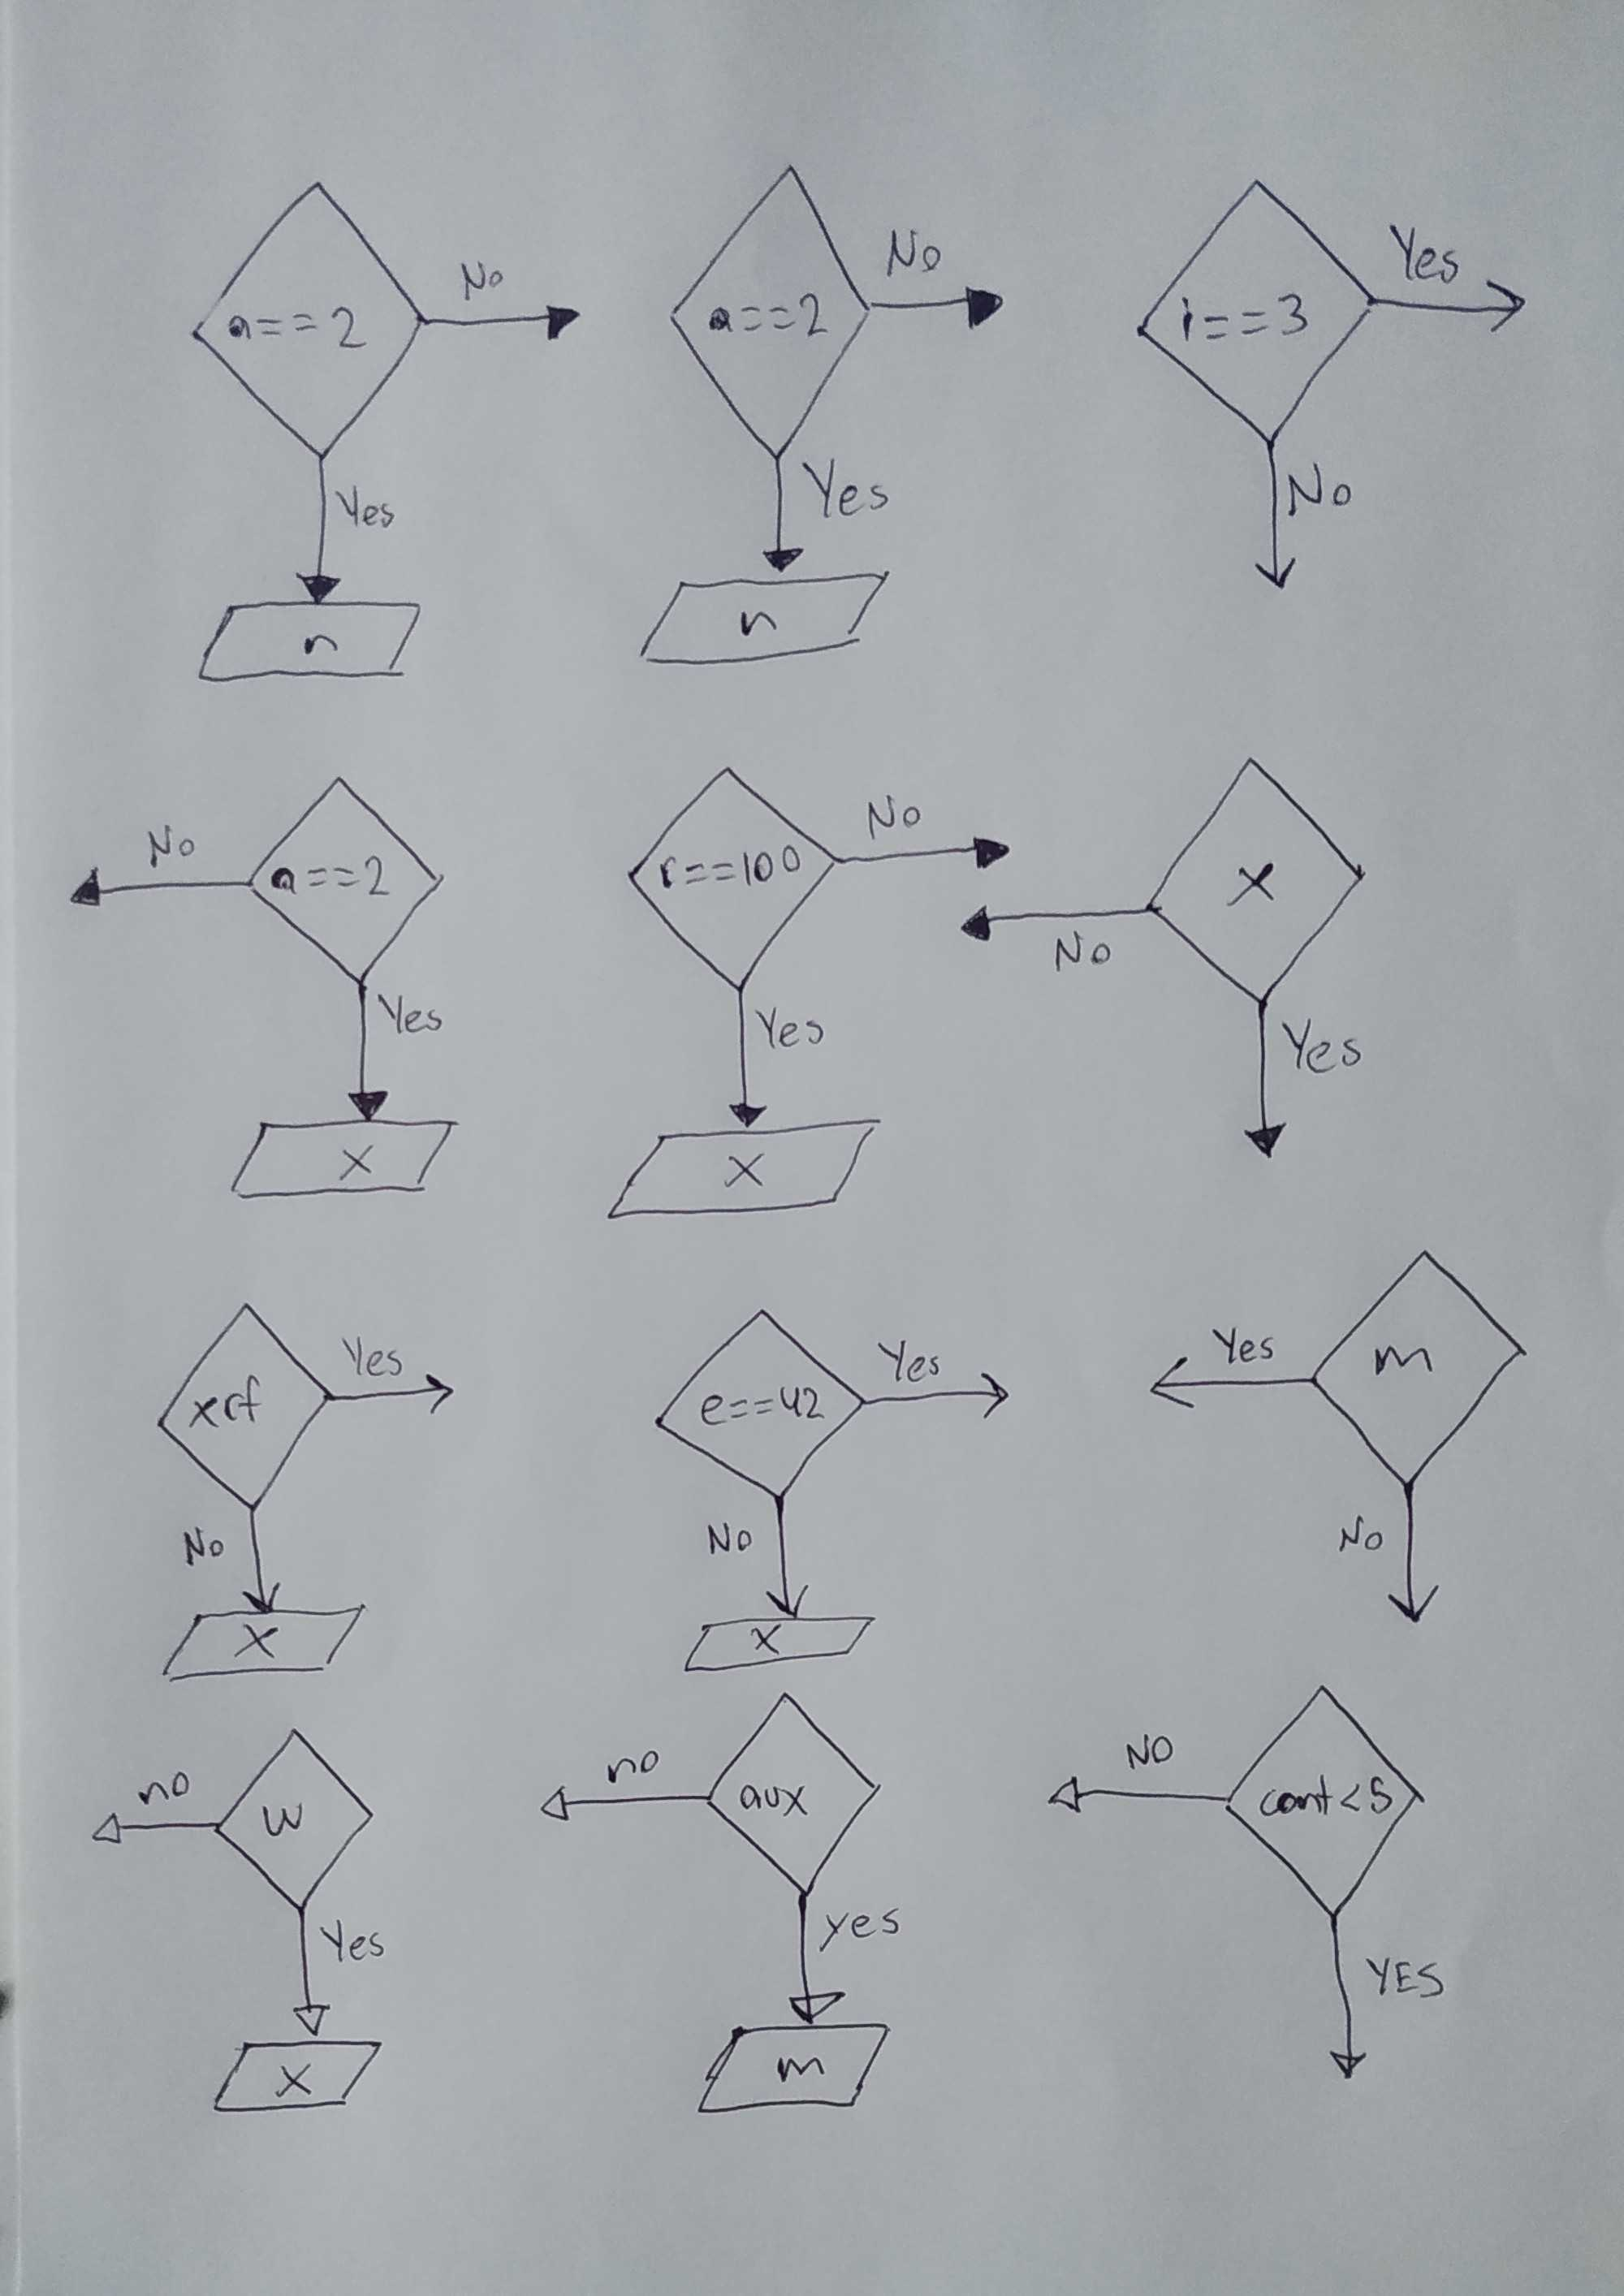arrow_line_down: (1315, 1915, 1376, 2085), (1381, 1481, 1446, 1630), (1237, 1001, 1294, 1172), (1250, 437, 1304, 599), (292, 450, 350, 601), (281, 1901, 341, 2045), (787, 1887, 845, 2031), (341, 977, 395, 1128), (758, 1497, 817, 1621), (721, 986, 770, 1135), (756, 448, 810, 578), (234, 1505, 285, 1611)
arrow_line_left: (956, 891, 1155, 956), (1142, 1353, 1318, 1418), (1039, 1771, 1229, 1827), (63, 859, 251, 915), (524, 1769, 717, 1822), (83, 1808, 223, 1852)
arrow_line_right: (1371, 271, 1533, 341), (831, 826, 1016, 878), (865, 274, 1014, 339), (861, 1363, 1012, 1425), (422, 290, 587, 346), (325, 1368, 459, 1418)
decision: (1125, 167, 1381, 462), (181, 169, 429, 467), (661, 151, 874, 467), (1148, 752, 1378, 1005), (1308, 1237, 1536, 1491), (615, 754, 835, 998), (1225, 1674, 1429, 1925), (645, 1300, 877, 1511), (248, 766, 446, 986), (144, 1291, 337, 1516), (707, 1688, 891, 1903), (218, 1722, 376, 1918)
scan: (594, 1114, 891, 1230), (631, 566, 898, 671), (225, 1108, 471, 1210), (190, 592, 432, 687), (692, 2018, 902, 2124), (153, 1600, 374, 1686), (202, 2029, 392, 2119), (675, 1607, 879, 1674)
